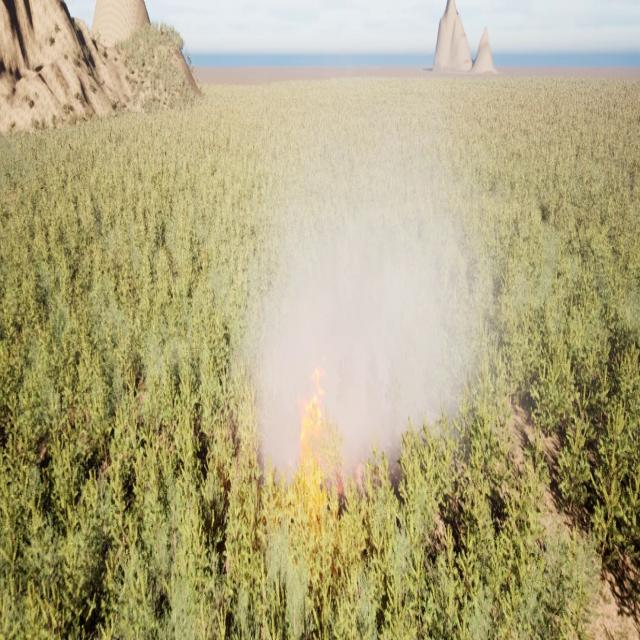fire: (292, 354, 330, 484)
smoke: (240, 115, 498, 505)
